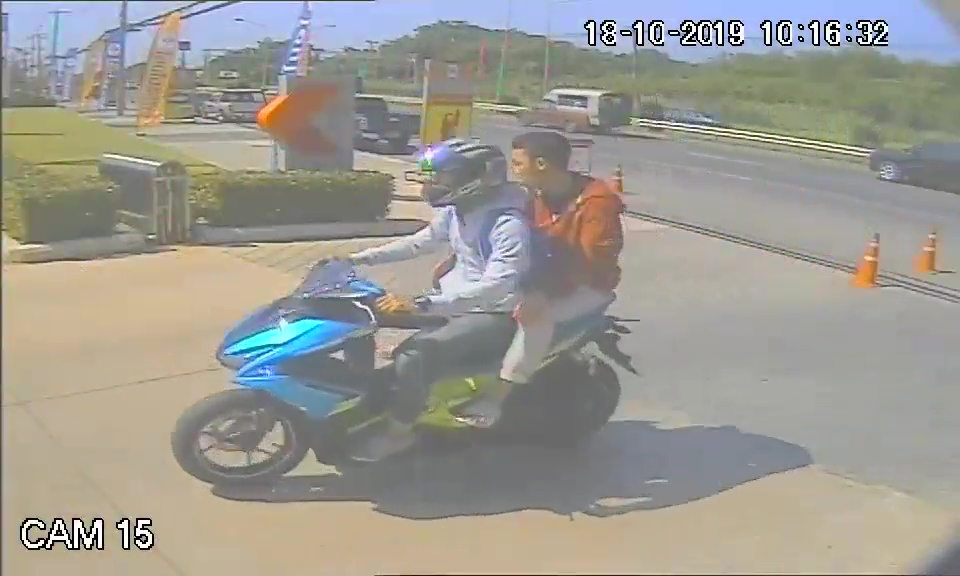motorcycle: (166, 256, 647, 486)
